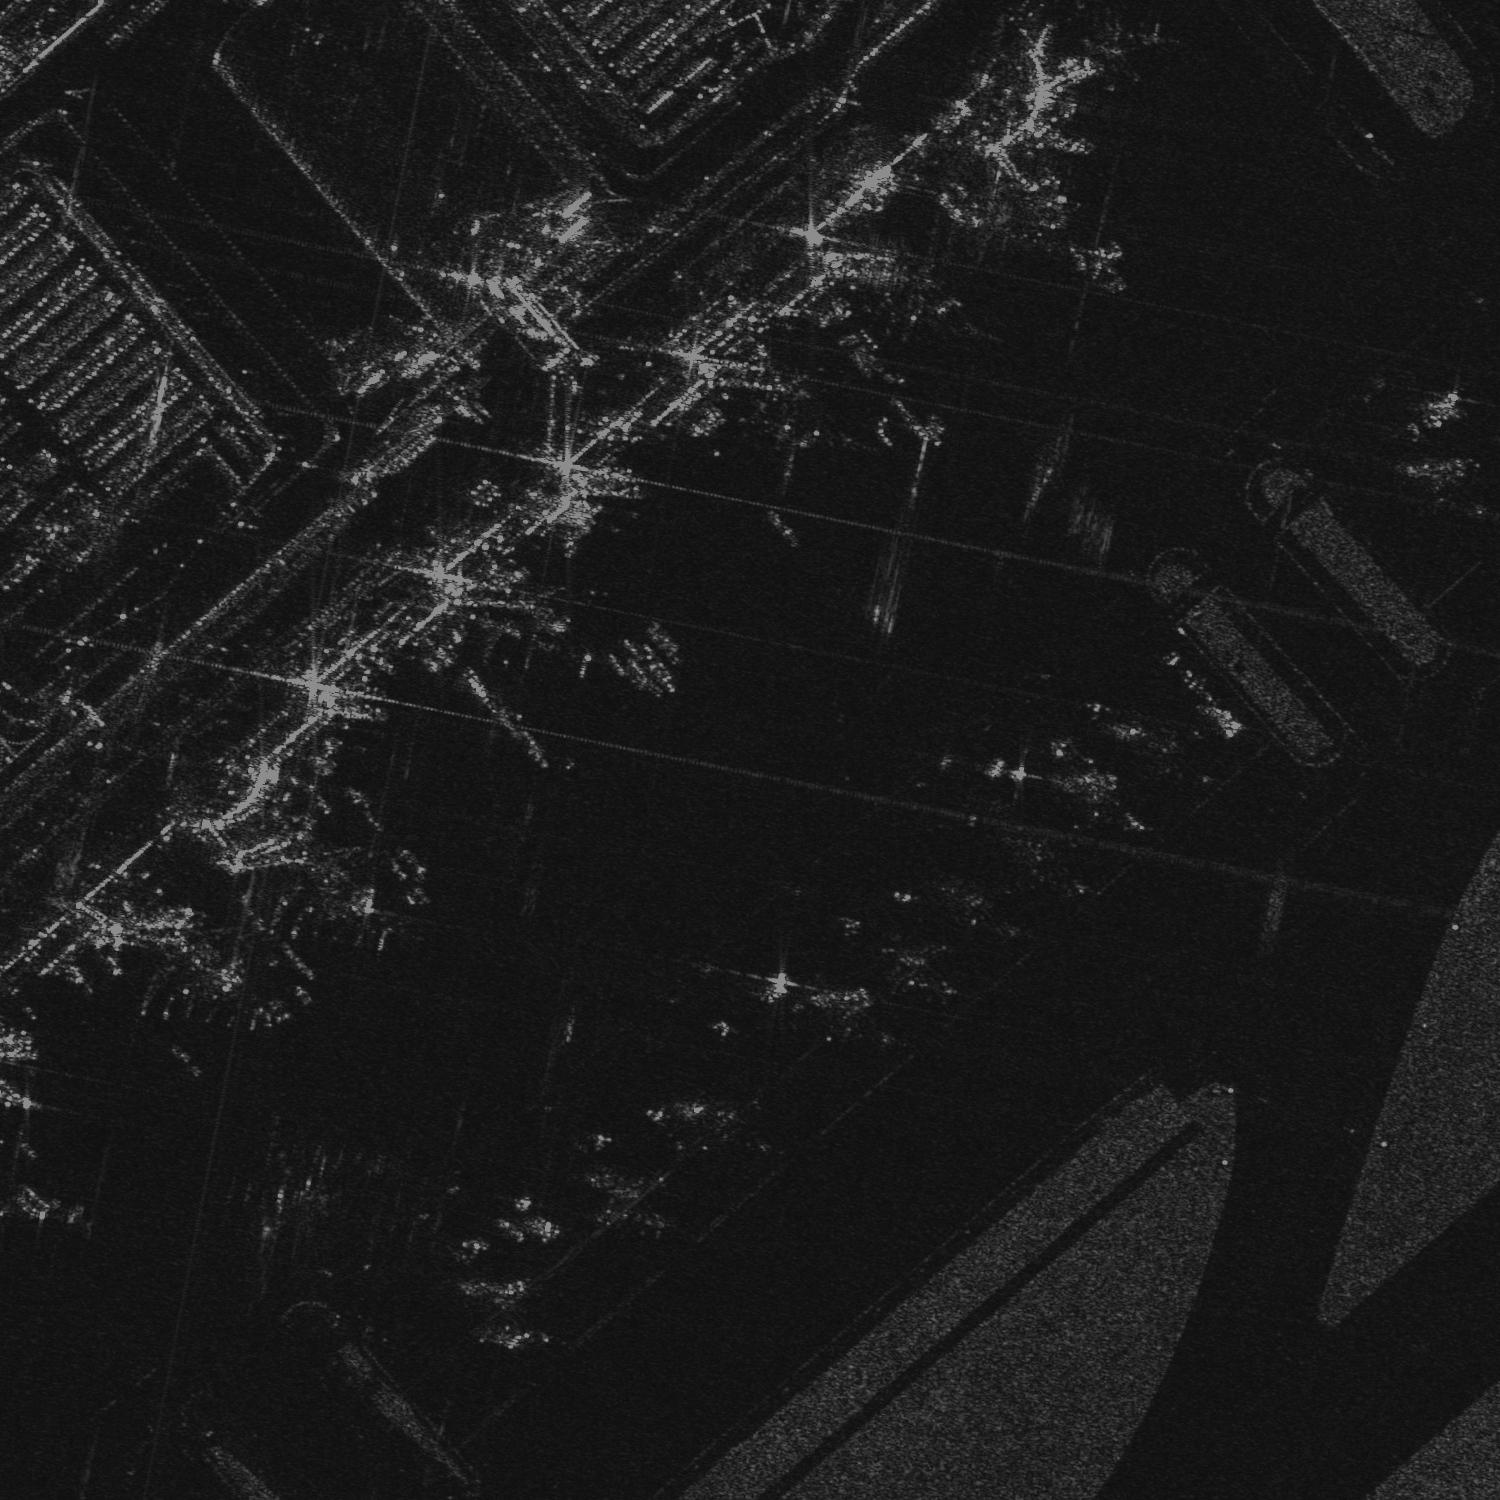A330: (511, 584, 609, 679)
Boeing737: (130, 924, 269, 1022), (271, 843, 385, 926), (585, 1152, 681, 1238), (1120, 717, 1221, 795), (1066, 762, 1155, 841), (1010, 823, 1092, 905), (683, 1093, 782, 1161), (809, 984, 902, 1051), (945, 876, 1025, 944), (887, 941, 962, 1001), (1071, 235, 1137, 295)
